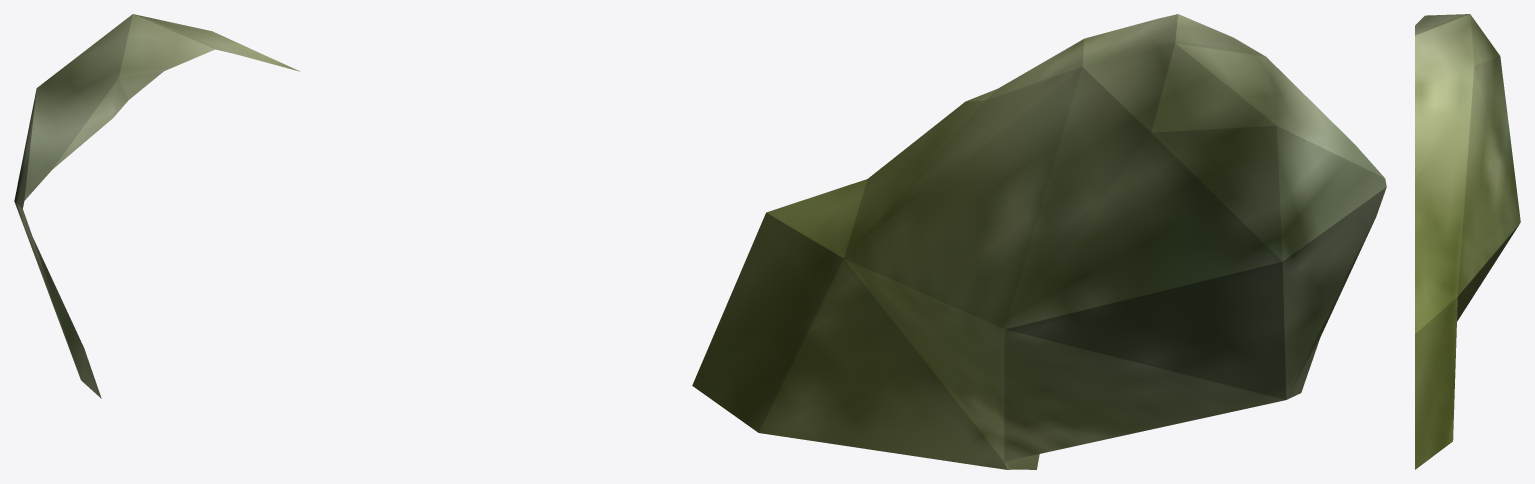
The picture shows the model from 3 angles, left to right: view 1: azimuth 30°, elevation 25°; view 2: azimuth 150°, elevation 25°; view 3: azimuth 270°, elevation 25°; orthographic projection. The views are drawn at different scales.
Size of the model in its own units: 0.8268 by 0.575 by 0.1825.
1 material, 1 textured.
